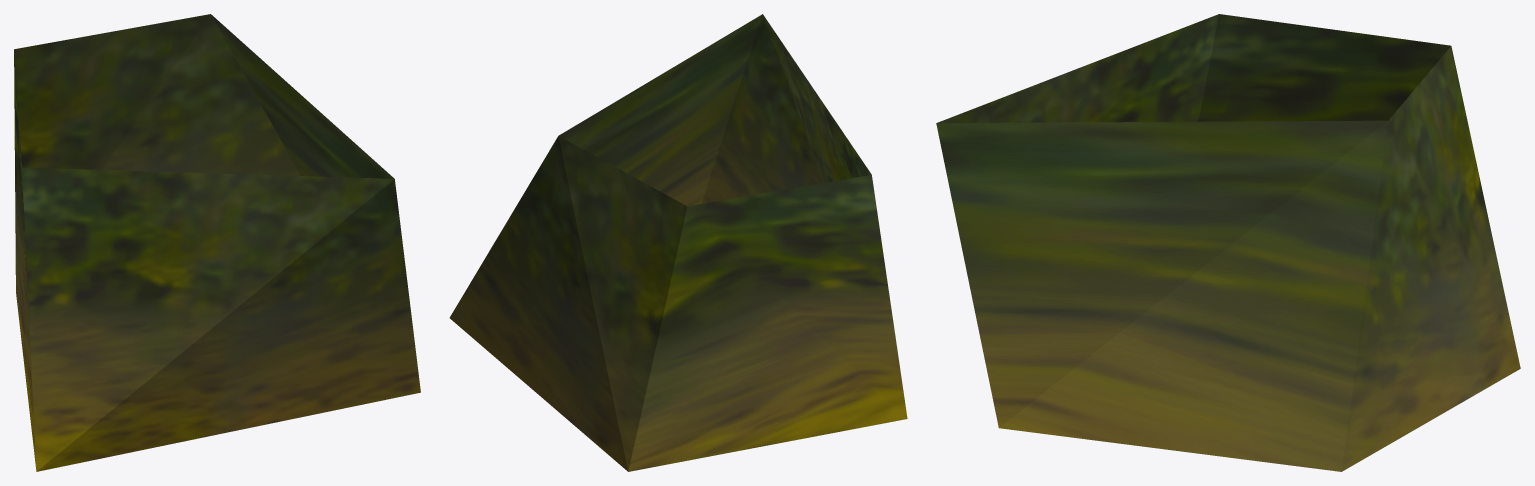
Rendered from Ridge_5_2_Lat.gltf.
3 views of the same model, side by side, from view 1: azimuth 30°, elevation 25°; view 2: azimuth 150°, elevation 25°; view 3: azimuth 270°, elevation 25° (orthographic). The views are drawn at different scales.
Visible parts, largest first — view 1: Ridge_5_2_Lat; view 2: Ridge_5_2_Lat; view 3: Ridge_5_2_Lat.
Boxes of the visible parts, <box> form: Ridge_5_2_Lat: <box>14,14,420,471</box>; Ridge_5_2_Lat: <box>449,14,907,471</box>; Ridge_5_2_Lat: <box>936,14,1520,471</box>.
Size of the model in its own units: 28.94 by 20.94 by 31.6.
Materials: 1 (1 with a texture image).
